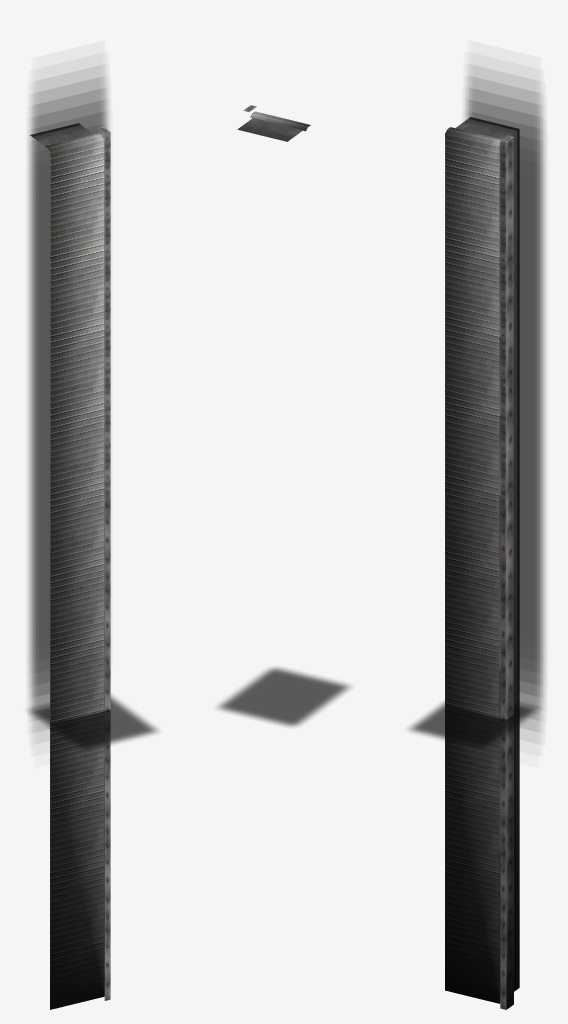
The model's file is food_belt1.glb.
The picture shows the model from 3 angles, left to right: view 1: azimuth 30°, elevation 25°; view 2: azimuth 150°, elevation 25°; view 3: azimuth 330°, elevation 25°; orthographic projection. The views are drawn at different scales.
Parts seen in each view (by area): view 1: mesh_tide1, belt1; view 2: belt1, mesh_tide1; view 3: mesh_tide1, belt1.
Boxes of the visible parts, x1,y1,x2,y2 form: mesh_tide1: (44,133,104,1009); belt1: (27,65,157,1000); belt1: (218,105,349,726); mesh_tide1: (250,111,310,131); mesh_tide1: (445,127,501,1003); belt1: (409,65,544,1009).
Size of the model in its own units: 10.32 by 99.04 by 12.32.
Materials: 4 (4 with a texture image).
